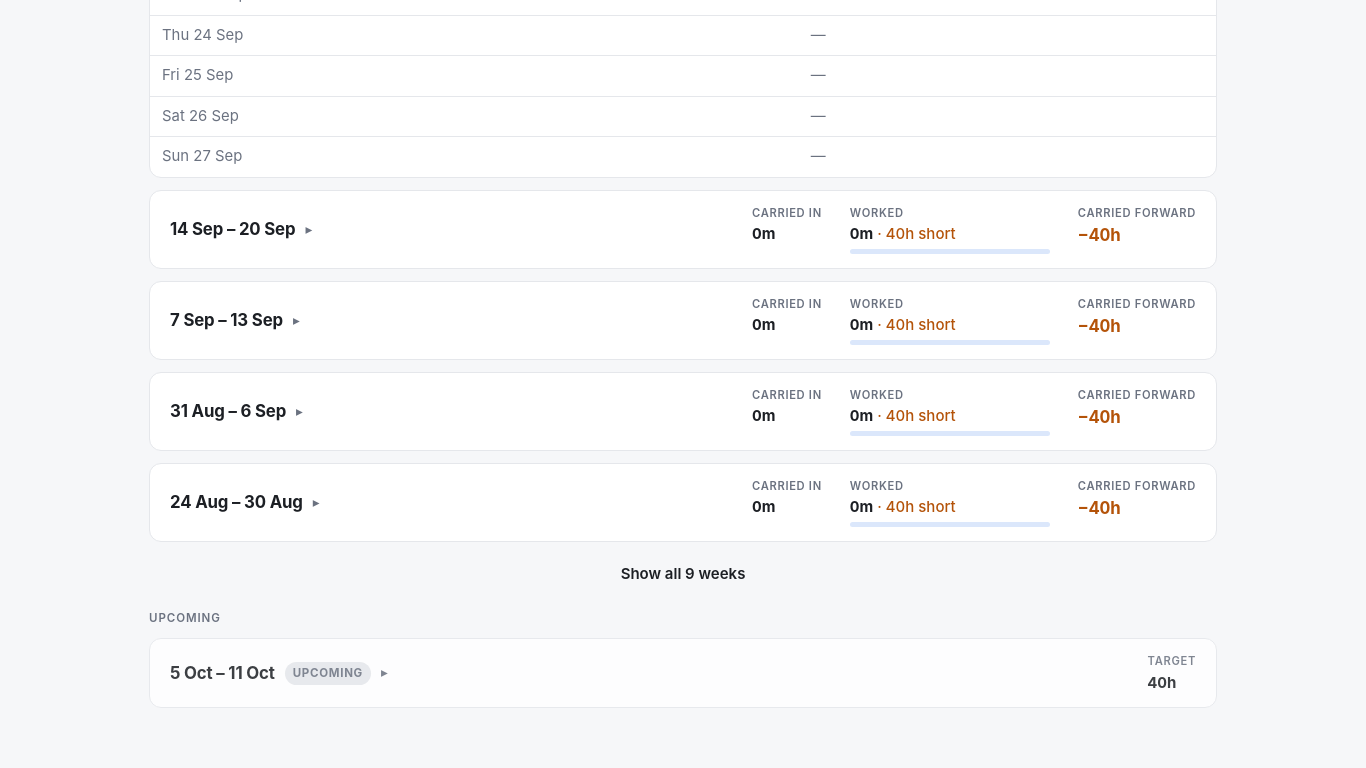
App › shows six weeks by default and the rest on demand, and expands an upcoming week on click
This screenshot has width=1366, height=768.
(page scrolled)
Click the button "Show all 9 weeks": (683, 574) x1=149 y1=554 x2=1217 y2=594
(page scrolled)
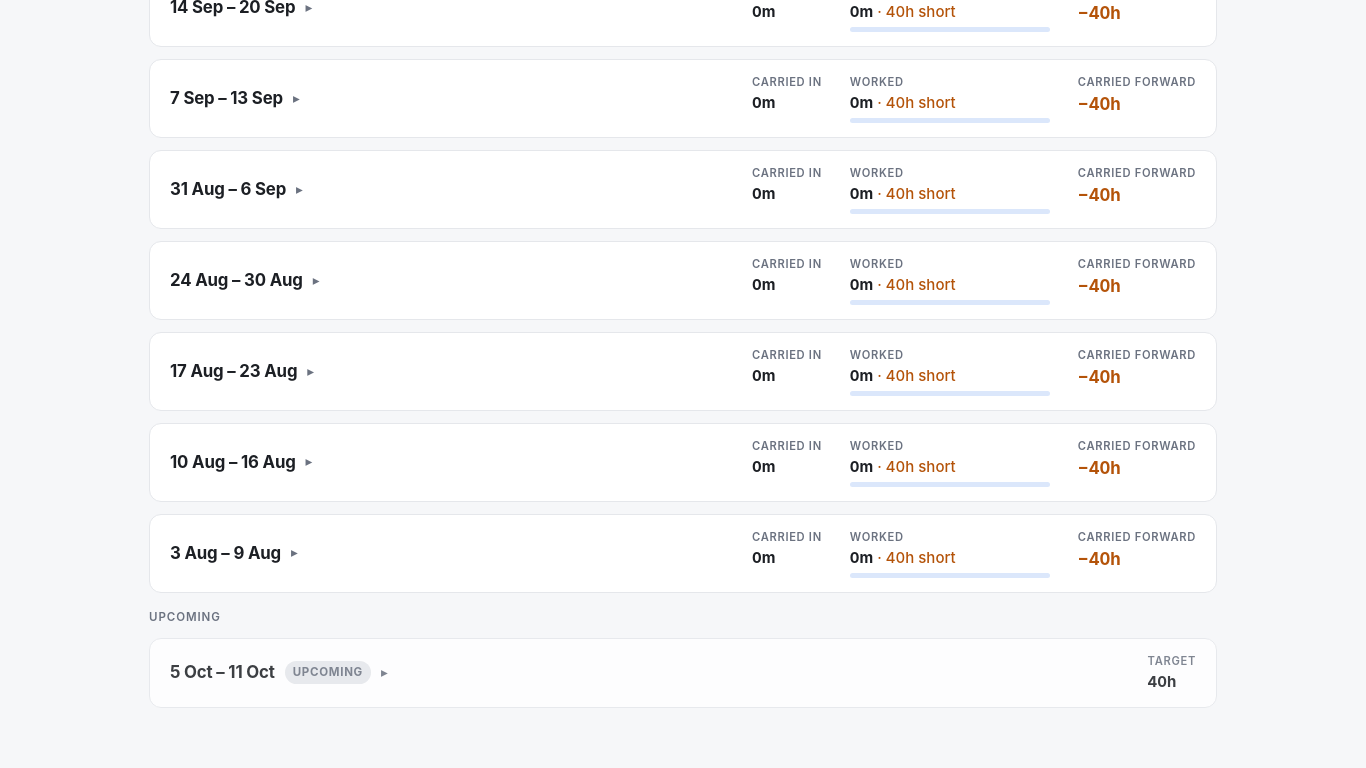
Expected: the number of fields labelled "Week of" is 10
Click the heading "5 Oct – 11 Oct": (222, 672) x1=170 y1=660 x2=275 y2=685
(page scrolled)
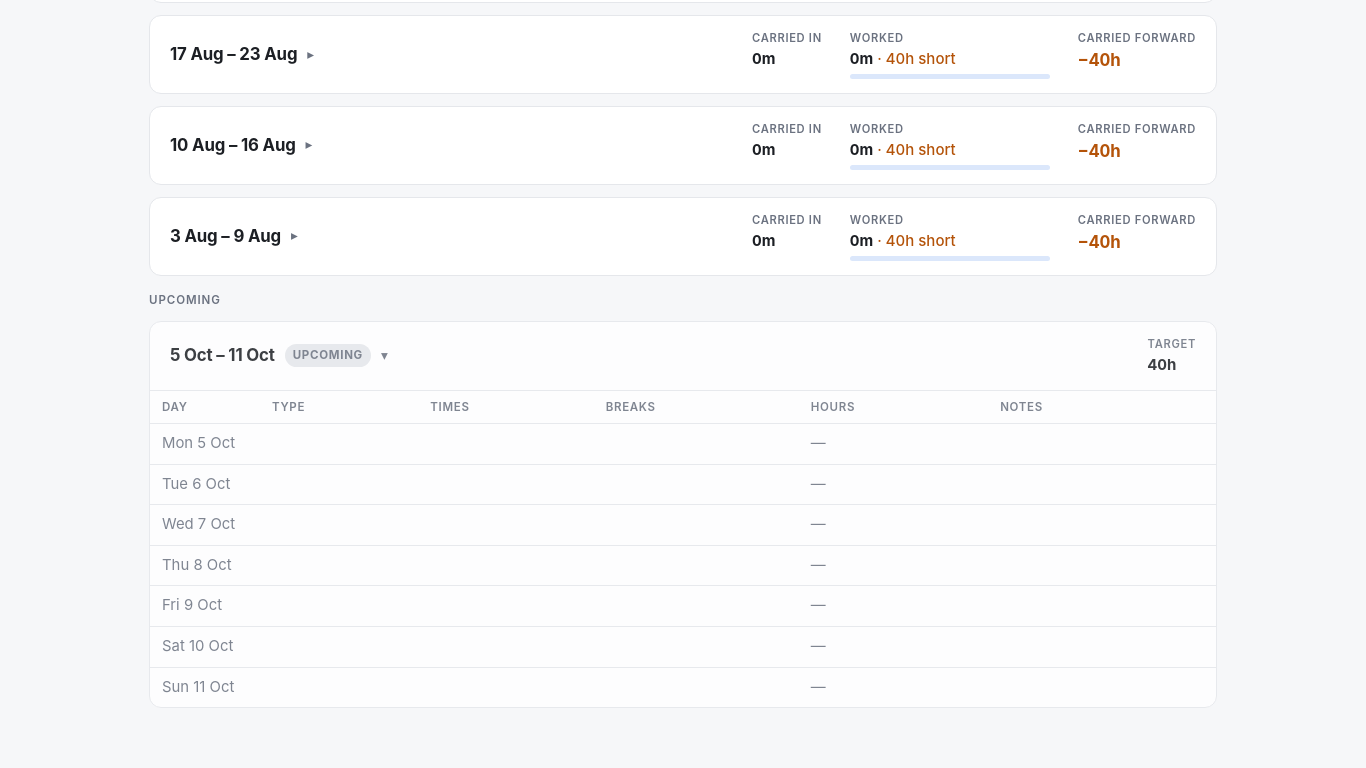
Expected: the table is shown, x1=150 y1=390 x2=1216 y2=707
